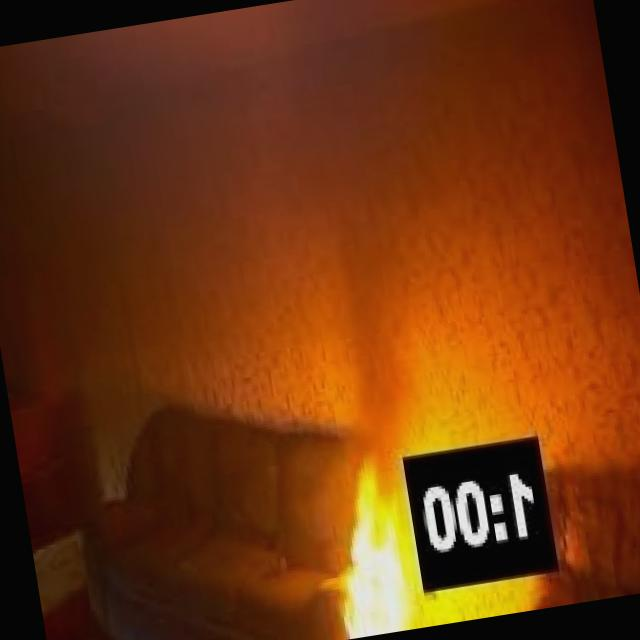fire: (332, 477, 426, 638)
